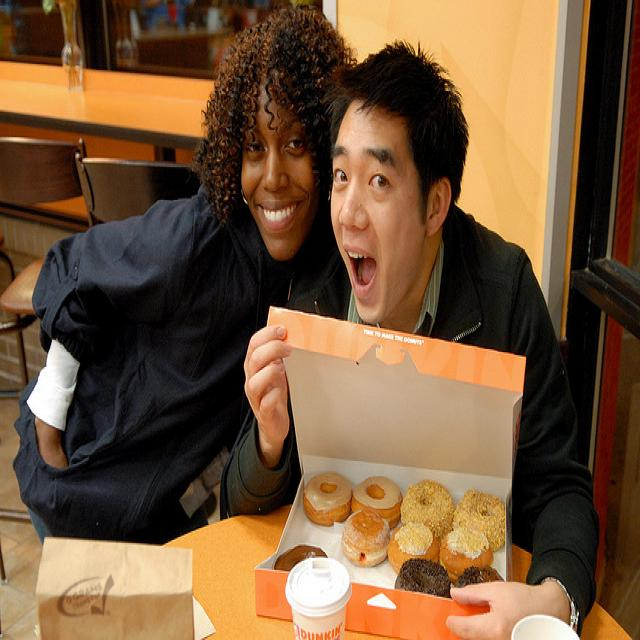chair: (0, 136, 86, 321), (77, 154, 197, 224)
dining table: (1, 53, 219, 138)
